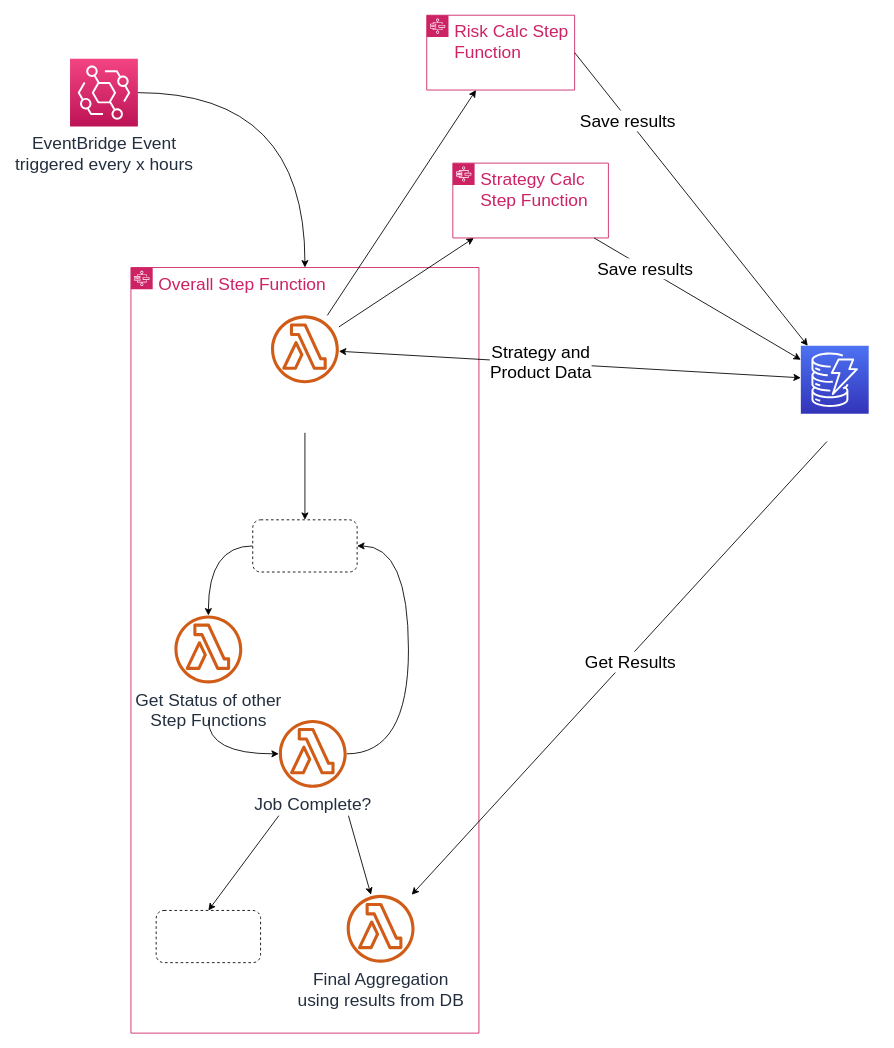
The diagram is 894 pixels wide and 1048 high, and some of its shapes have lost their labels. Here are the shapes that lost their labels. From the top down, the centre of each, then its label:
At pixel 304 349: "Kick off Strategy and Risk Step Functions".
At pixel 834 379: "DynamoDB".
At pixel 304 545: "Wait x seconds".
At pixel 208 936: "Job Failed".
